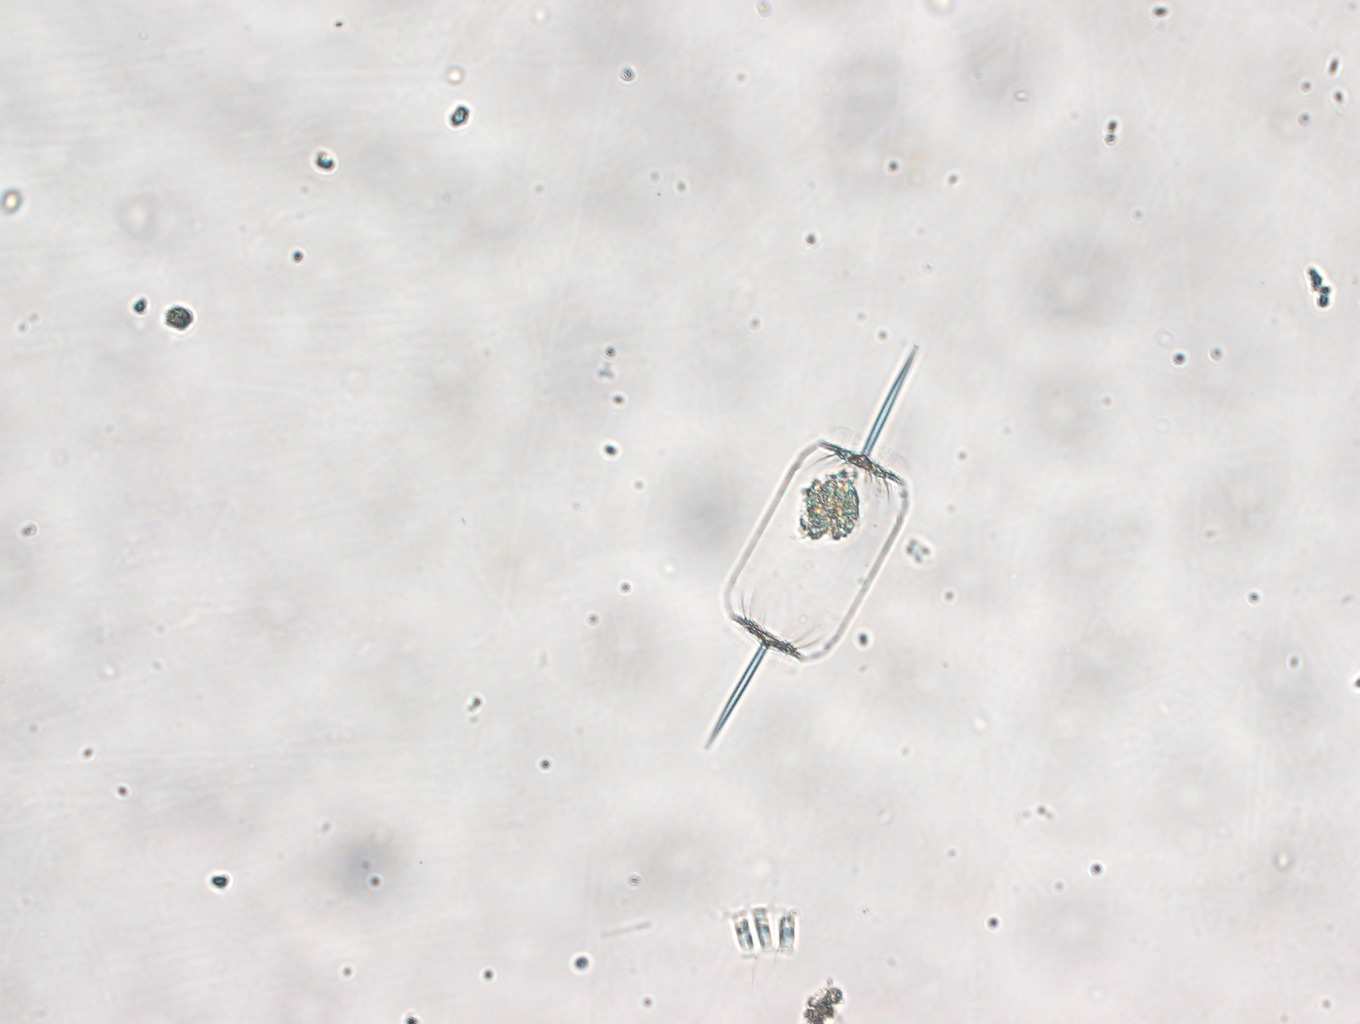ditylum: (702, 337, 921, 756)
